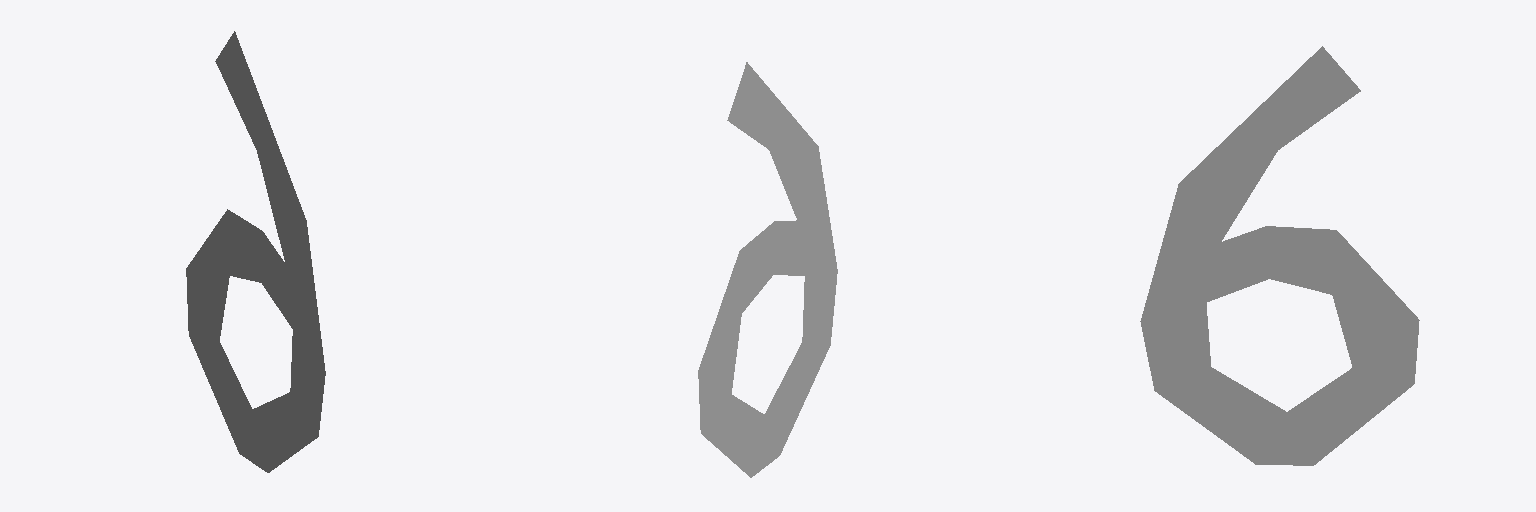
Rendered from number_6.obj.
3 views of the same model, side by side, from view 1: azimuth 30°, elevation 25°; view 2: azimuth 150°, elevation 25°; view 3: azimuth 270°, elevation 25° (orthographic).
Visible parts, largest first — view 1: number_6; view 2: number_6; view 3: number_6.
Part boxes in pixels (left/top/right/bottom): number_6: left=186, top=31, right=325, bottom=472; number_6: left=698, top=62, right=837, bottom=477; number_6: left=1140, top=46, right=1419, bottom=465.
Bounding box in the file's own units: 0 × 6.8 × 4.1.